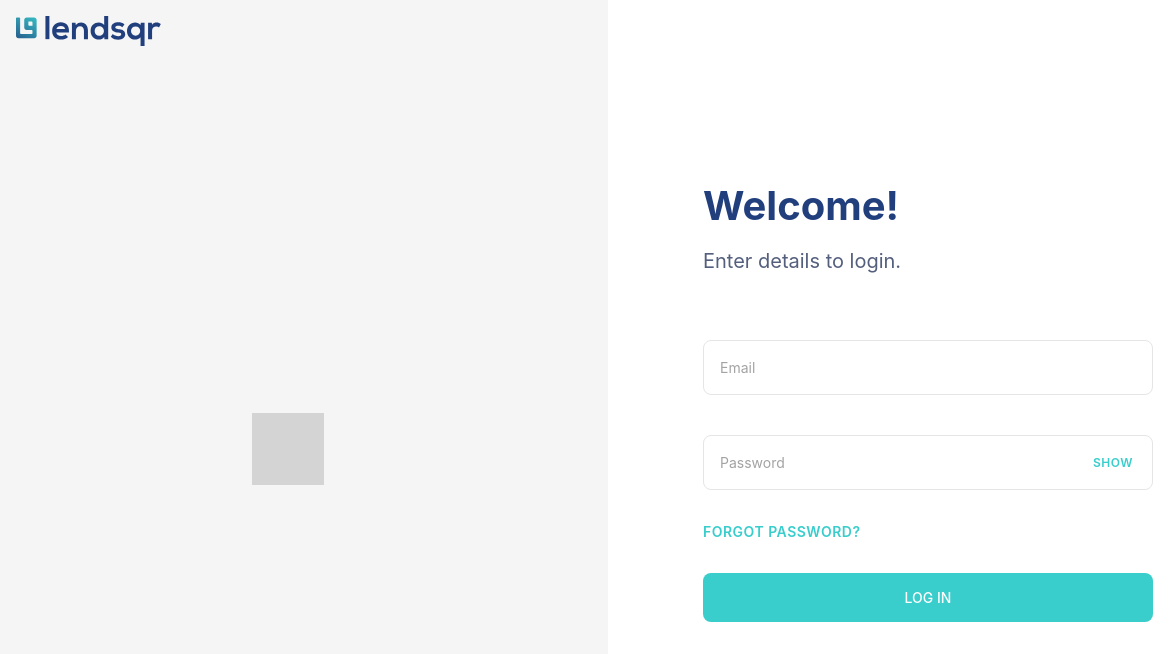
Scenario: Login Page › should show error for password less than 6 characters
Type "test@example.com" into the field with placeholder "Email" at [928, 367], box x1=703 y1=340 x2=1153 y2=395
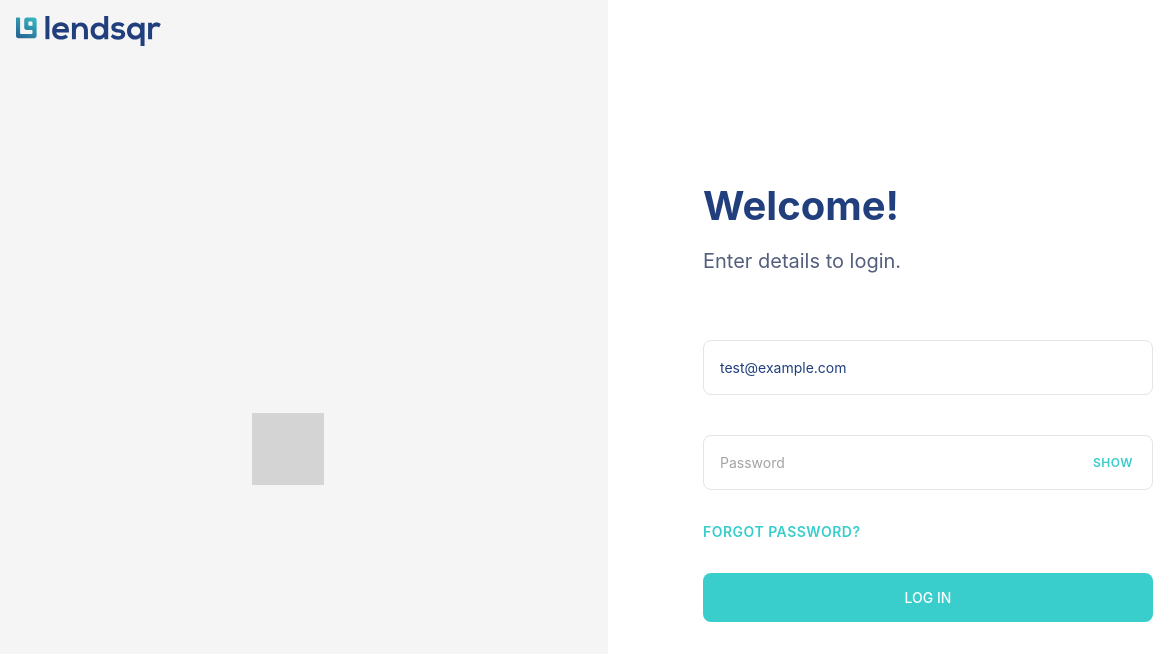
Type "12345" into the password field with placeholder "Password" at [928, 462], box x1=703 y1=435 x2=1153 y2=490
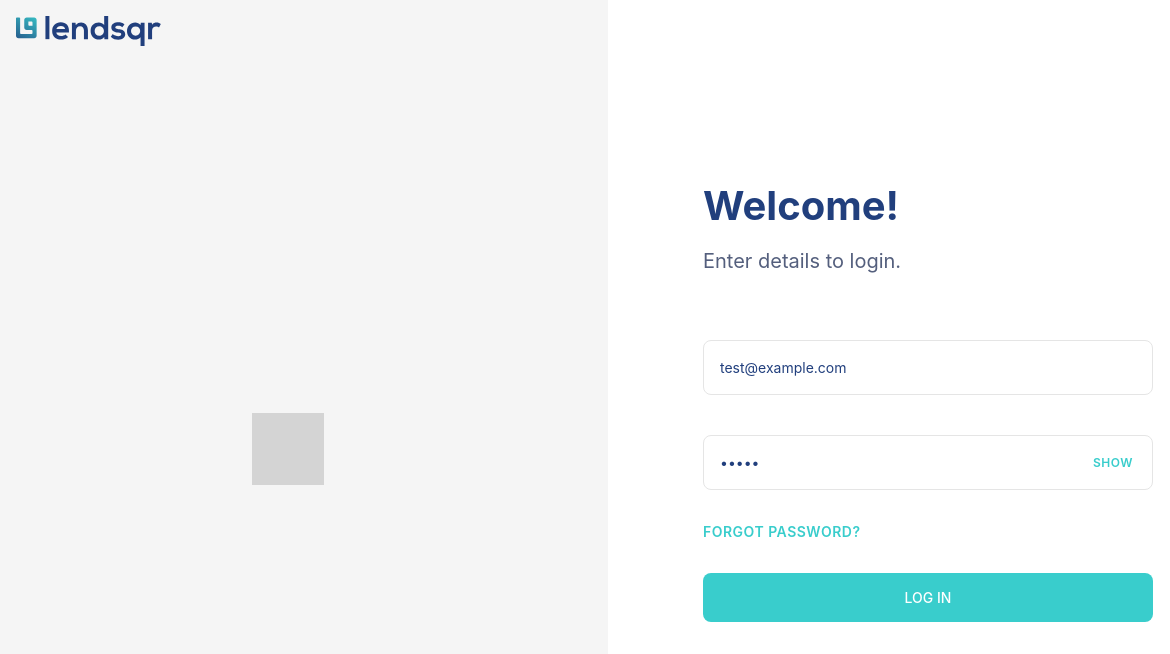
Click the button "LOG IN" at [928, 598], box x1=703 y1=573 x2=1153 y2=622
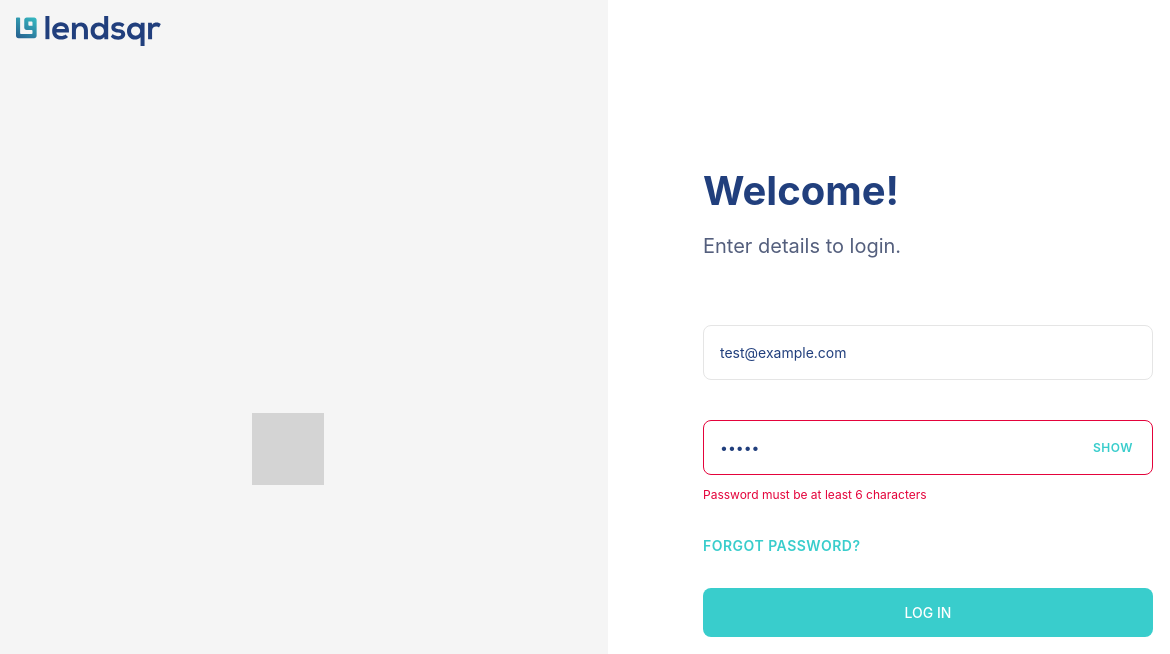
Result: the text "Password must be at least 6 characters" is shown at x1=703 y1=487 x2=927 y2=502
